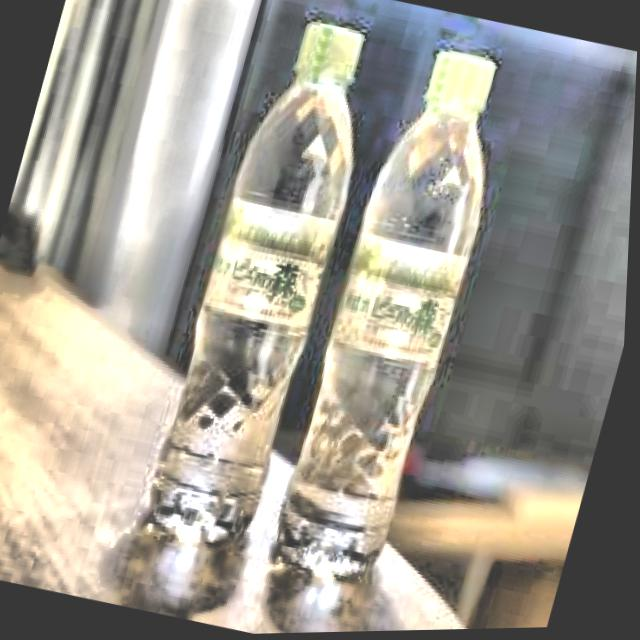Bottles: (254, 29, 544, 601), (125, 0, 403, 584)
